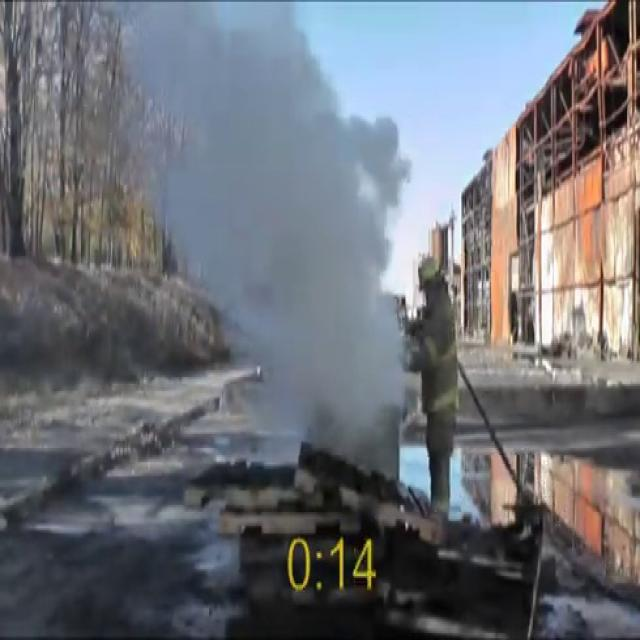Smoke: (122, 2, 420, 460)
